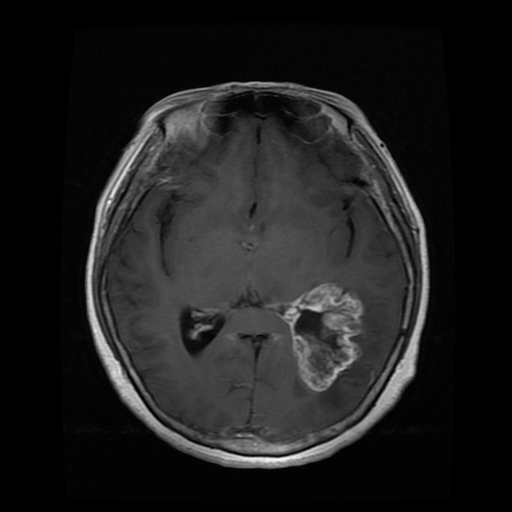glioma: (282, 282, 365, 393)
